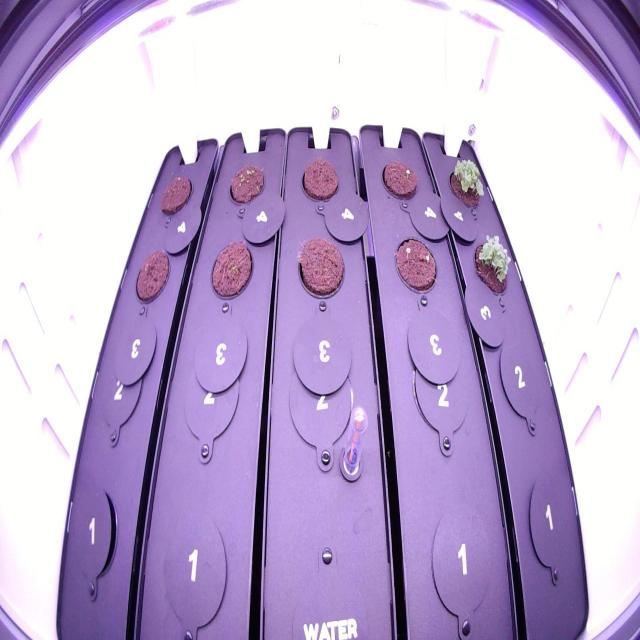empty_pod: (280, 355, 365, 469), (157, 506, 230, 626), (424, 499, 496, 619), (179, 346, 249, 449), (404, 348, 474, 451), (64, 482, 124, 590), (519, 470, 575, 581), (492, 333, 550, 432), (91, 349, 148, 437)
germination: (466, 223, 517, 304), (390, 230, 443, 301), (443, 149, 490, 218), (223, 157, 271, 211), (377, 152, 424, 205)
pod: (291, 230, 349, 304), (204, 234, 256, 307), (129, 243, 177, 311), (297, 154, 343, 208), (156, 163, 195, 222)
